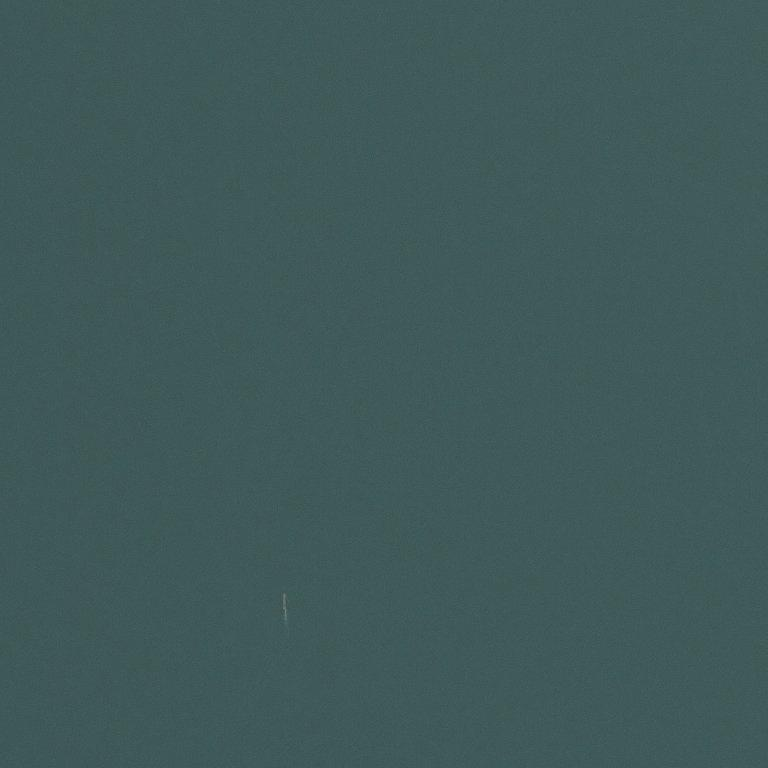ship: (282, 592, 289, 612)
